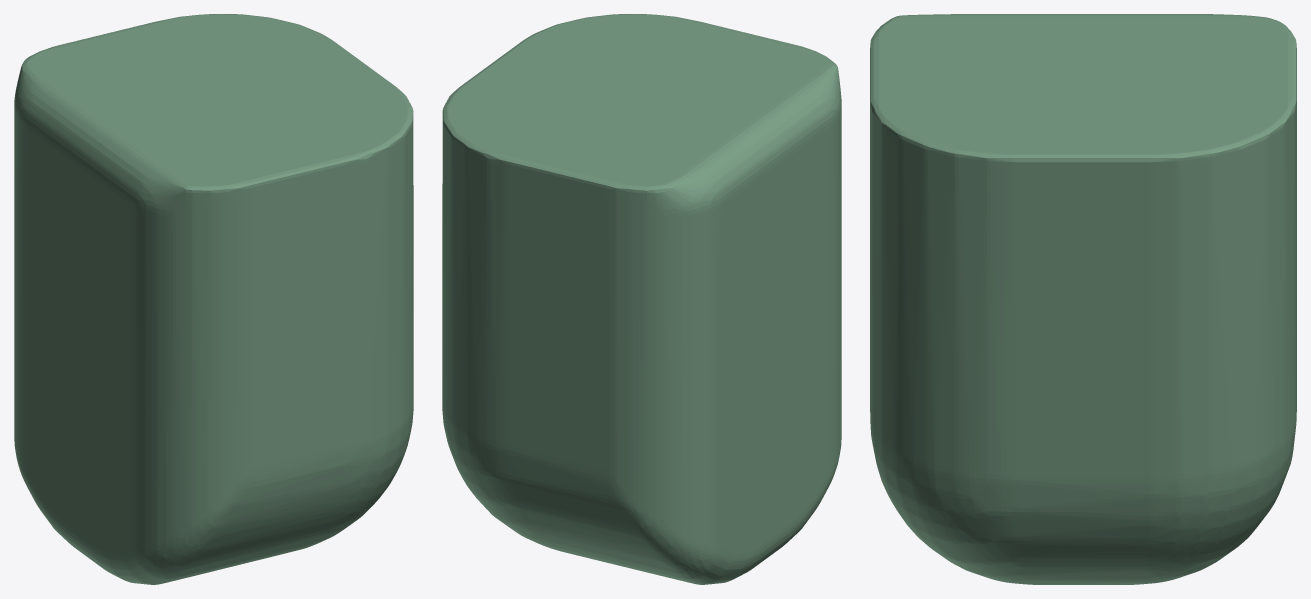
The model's file is white_tip.obj.
The picture shows the model from 3 angles, left to right: view 1: azimuth 30°, elevation 25°; view 2: azimuth 150°, elevation 25°; view 3: azimuth 270°, elevation 25°; orthographic projection. The views are drawn at different scales.
Parts seen in each view (by area): view 1: geometry_0; view 2: geometry_0; view 3: geometry_0.
Boxes of the visible parts, x1,y1,x2,y2 form: geometry_0: [14, 14, 413, 584]; geometry_0: [442, 14, 841, 584]; geometry_0: [870, 14, 1296, 584].
Size of the model in its own units: 0.0209 by 0.0306 by 0.0243.
